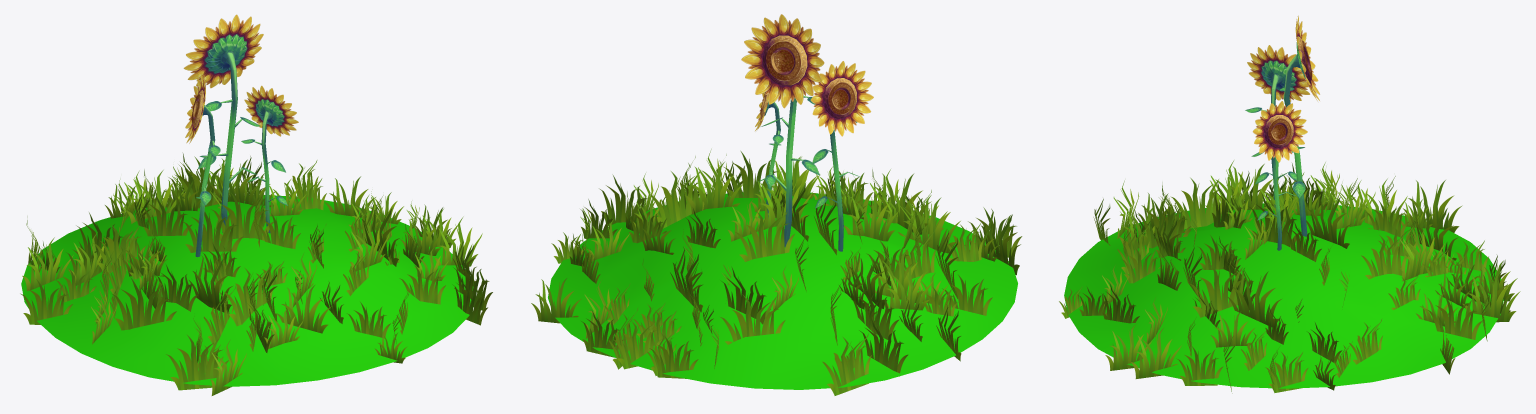
The model's file is SunflowerGarden.glb.
3 renders of one model, left to right at view 1: azimuth 30°, elevation 25°; view 2: azimuth 150°, elevation 25°; view 3: azimuth 270°, elevation 25°, orthographic. The views are drawn at different scales.
Visible parts, largest first — view 1: Ground, GroundGrass, GrassScatter, Sunflower_master; view 2: Ground, GroundGrass, GrassScatter, Sunflower_master; view 3: Ground, GroundGrass, GrassScatter, Sunflower_master.
Part boxes in pixels (x1,y1,x2,y2): Ground: (21,195,473,386); GroundGrass: (21,16,487,395); GrassScatter: (21,154,492,390); Sunflower_master: (184,14,263,232); Ground: (548,192,1017,389); GroundGrass: (542,14,1022,395); GrassScatter: (531,149,1020,378); Sunflower_master: (741,14,824,247); Ground: (1064,203,1503,388); GroundGrass: (1059,21,1512,393); GrassScatter: (1113,161,1519,390); Sunflower_master: (1279,16,1319,236).
Bounding box in the file's own units: 9.57 × 6.59 × 9.43.
Materials: 3 (2 with a texture image).
